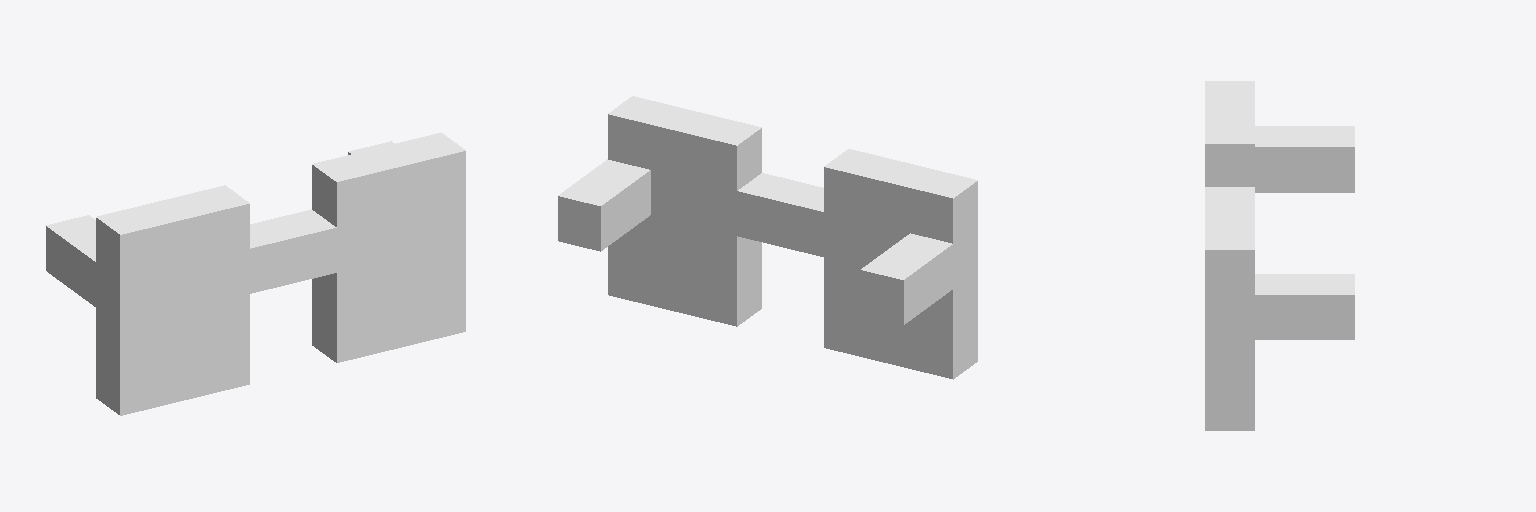
File: grandma02-11.obj
The picture shows the model from 3 angles: view 1: azimuth 30°, elevation 25°; view 2: azimuth 150°, elevation 25°; view 3: azimuth 270°, elevation 25°; orthographic projection.
Visible parts, largest first — view 1: grandma02-11; view 2: grandma02-11; view 3: grandma02-11.
Boxes of the visible parts, x1,y1,x2,y2 form: grandma02-11: [46, 132, 465, 415]; grandma02-11: [558, 96, 977, 379]; grandma02-11: [1205, 81, 1354, 430].
Bounding box in the file's own units: 8 × 4 × 3.